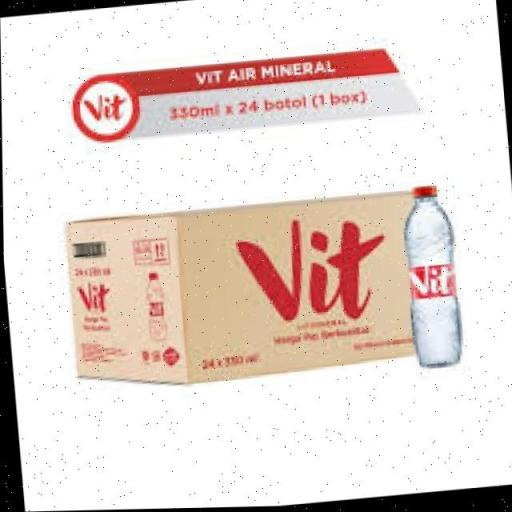plastic: (398, 184, 468, 374)
